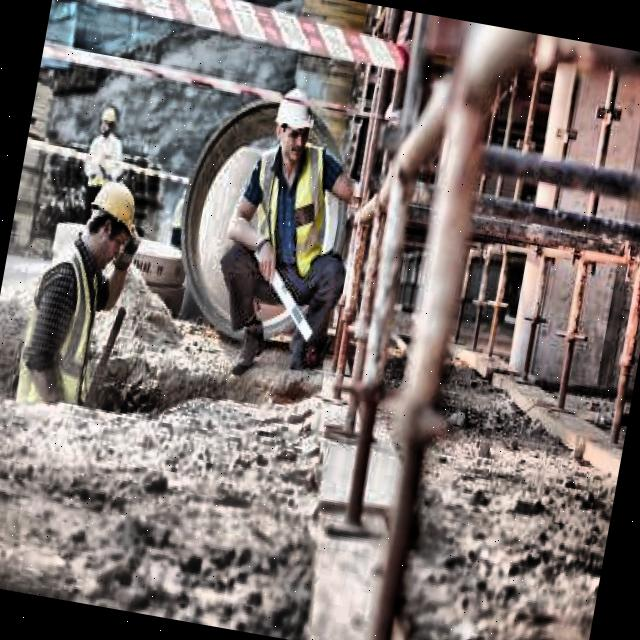helmet: (73, 174, 149, 280), (260, 84, 327, 174)
